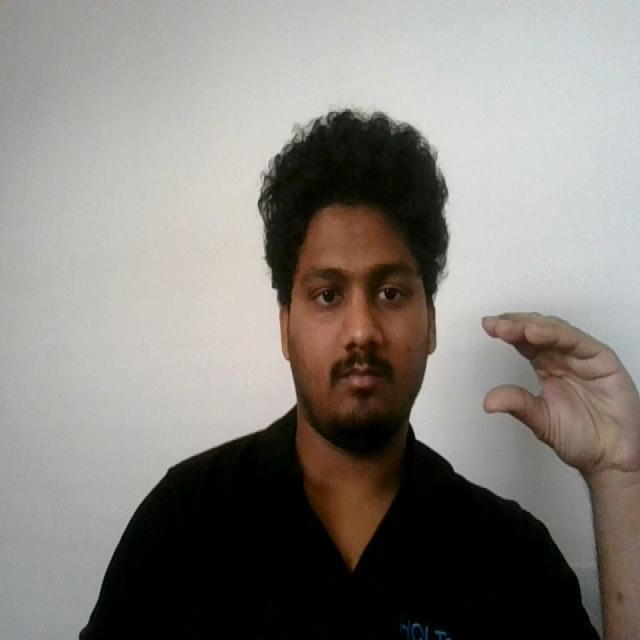No: (471, 303, 640, 487)
